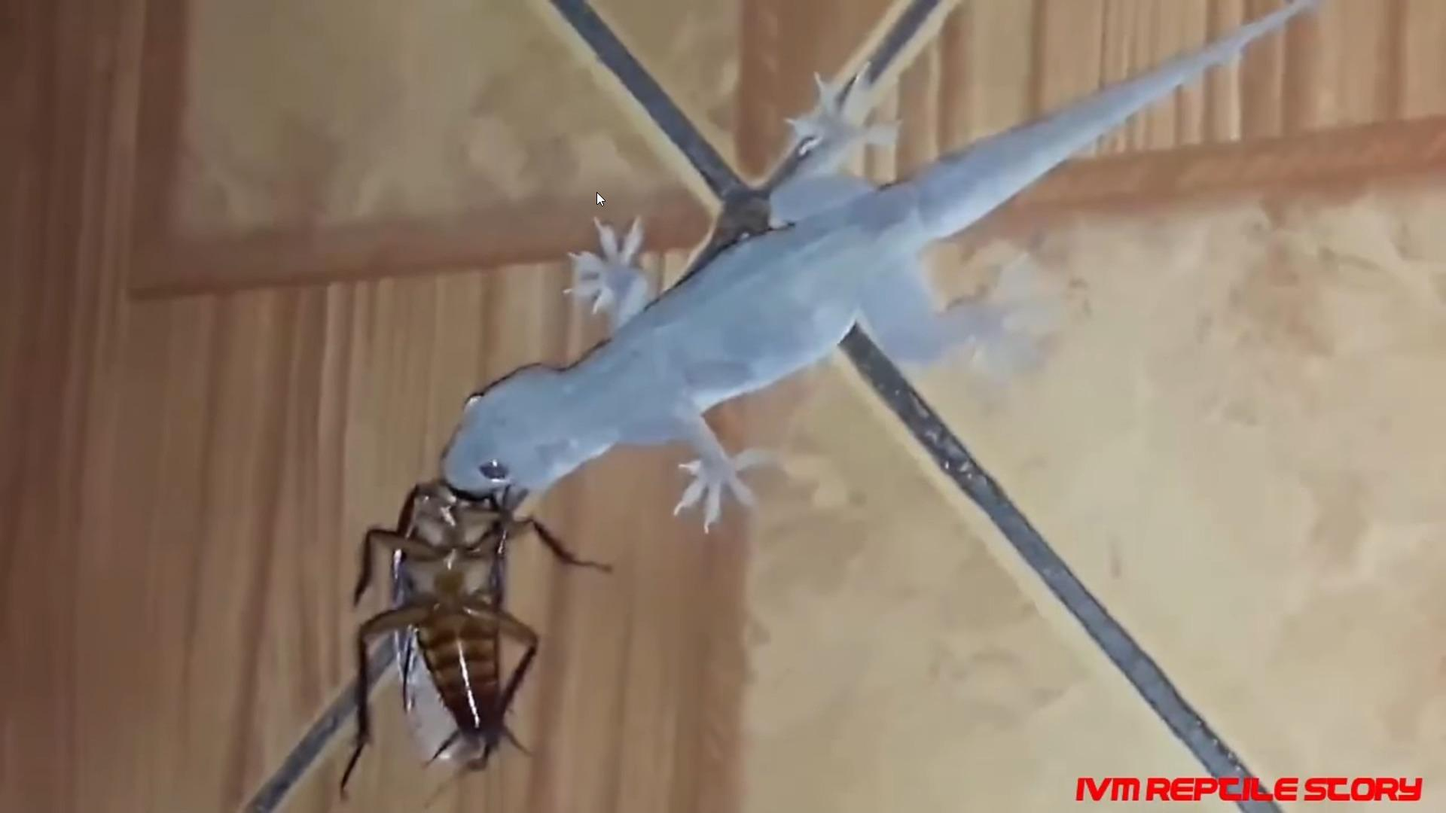cockroach: (338, 504, 600, 769)
lizard: (431, 58, 1076, 544)
